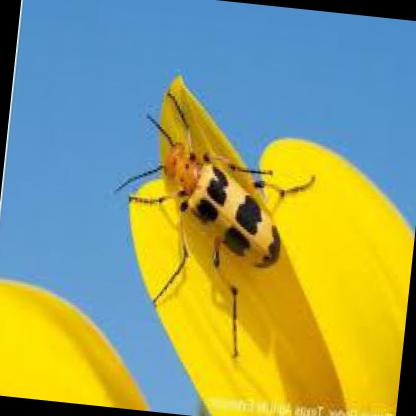blister beetle: (111, 95, 282, 268)
